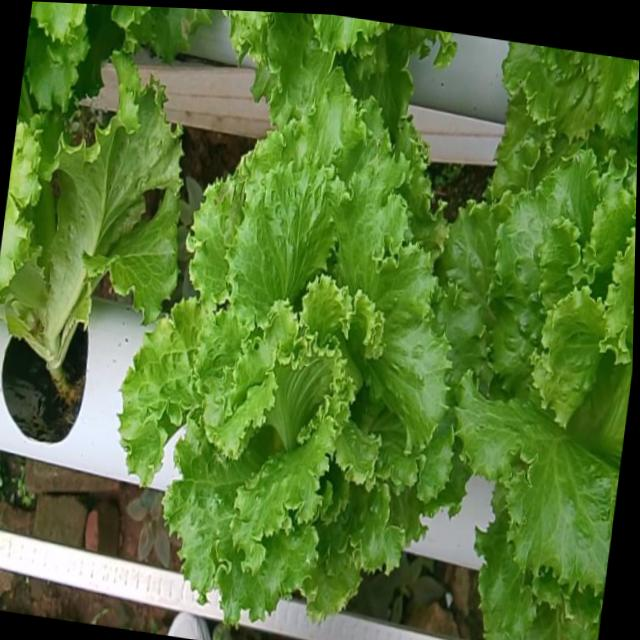Mature: (121, 96, 454, 624), (440, 154, 636, 602)
